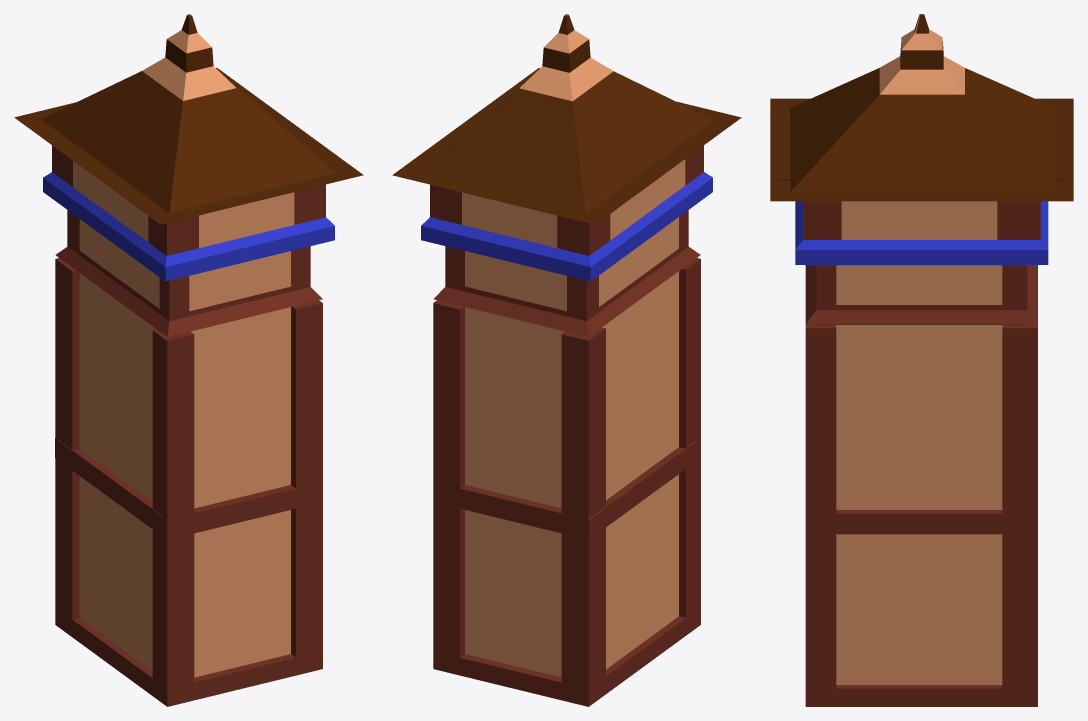
File: wallTower_material.fbx
3 views of the same model, side by side, from view 1: azimuth 30°, elevation 25°; view 2: azimuth 150°, elevation 25°; view 3: azimuth 270°, elevation 25° (orthographic). The views are drawn at different scales.
Parts seen in each view (by area): view 1: Cube, Cube.001; view 2: Cube, Cube.001; view 3: Cube, Cube.001.
Boxes of the visible parts, left/top/right/bottom form: Cube: left=14, top=68, right=363, bottom=706; Cube.001: left=41, top=14, right=335, bottom=212; Cube: left=392, top=68, right=741, bottom=706; Cube.001: left=419, top=14, right=713, bottom=213; Cube: left=770, top=98, right=1073, bottom=706; Cube.001: left=788, top=14, right=1056, bottom=191.
Bounding box in the file's own units: 288 × 854 × 359.
